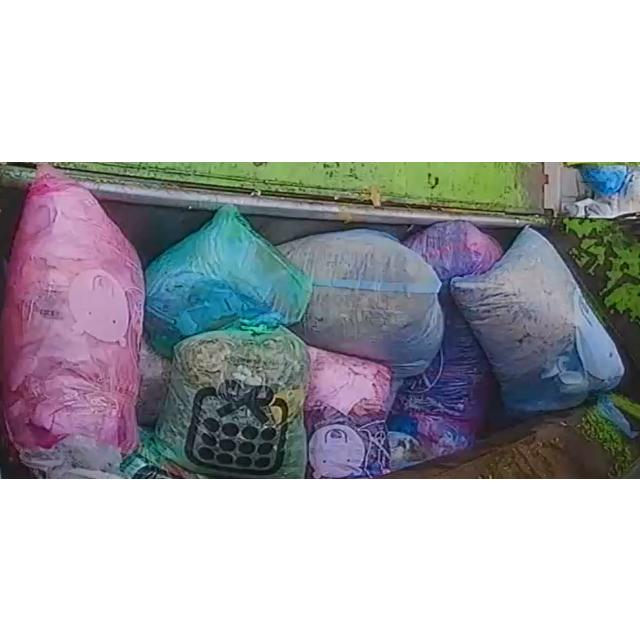general_trashbag: (145, 205, 311, 356)
other_trashbag: (2, 166, 145, 477), (451, 226, 624, 412), (388, 220, 502, 460), (278, 227, 444, 376), (305, 345, 394, 477)
